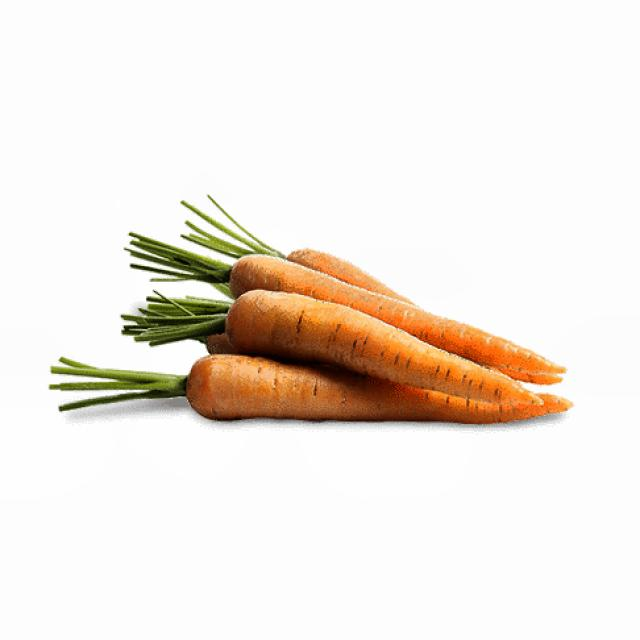carrot: (85, 190, 590, 474)
